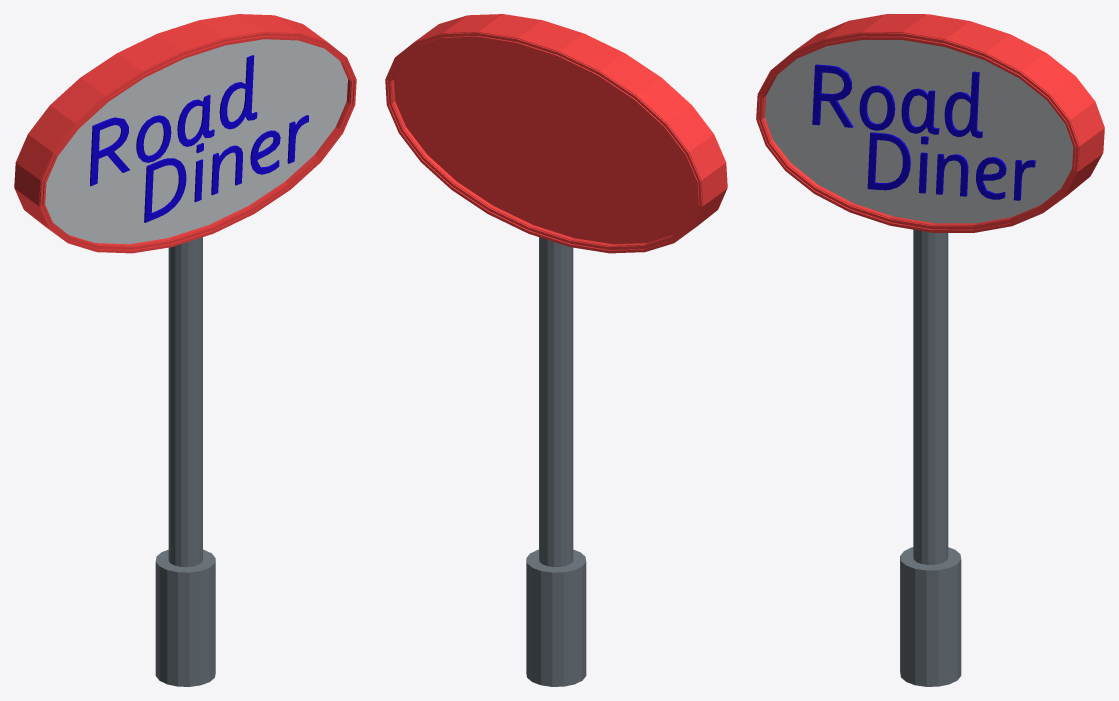
Rendered from Signboard_Cafe.gltf.
3 views of the same model, side by side, from view 1: azimuth 30°, elevation 25°; view 2: azimuth 150°, elevation 25°; view 3: azimuth 330°, elevation 25° (orthographic).
Parts seen in each view (by area): view 1: Signboard_Cafe; view 2: Signboard_Cafe; view 3: Signboard_Cafe.
Boxes of the visible parts, x1=… form: Signboard_Cafe: x1=14, y1=14, x2=356, y2=686; Signboard_Cafe: x1=385, y1=14, x2=727, y2=686; Signboard_Cafe: x1=756, y1=14, x2=1104, y2=686.
Bounding box in the file's own units: 2.74 × 5.27 × 0.4532.
